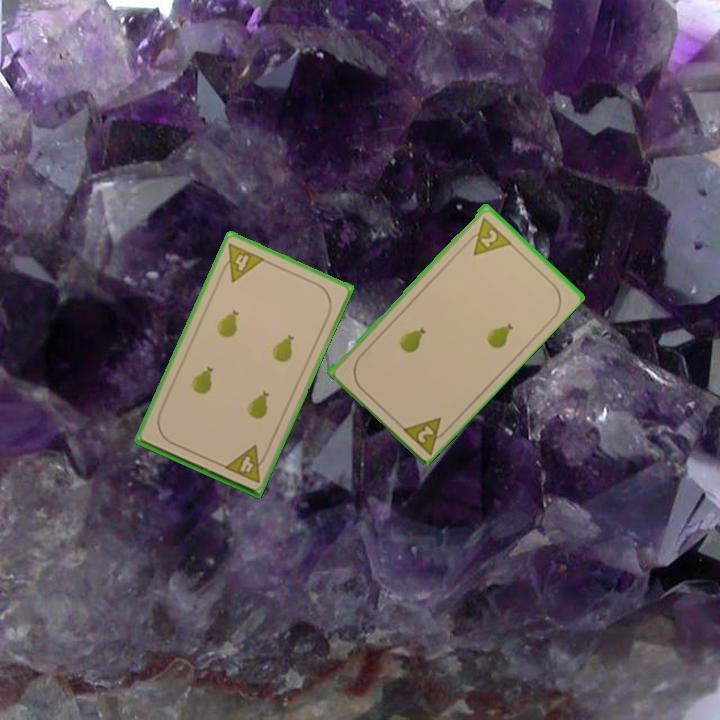2p: (397, 413, 454, 456), (461, 212, 513, 258)
4p: (216, 239, 267, 285), (220, 442, 271, 485)
